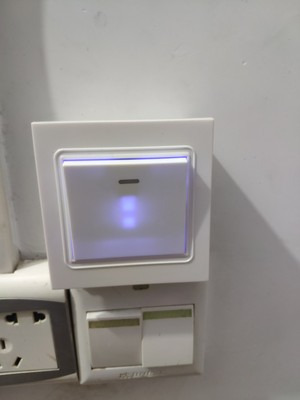switch: (59, 152, 193, 265)
